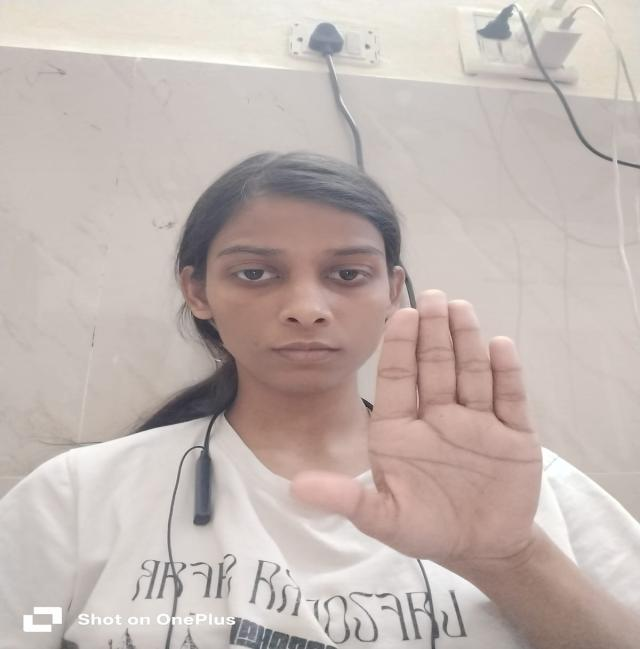Hello: (274, 277, 556, 592)
